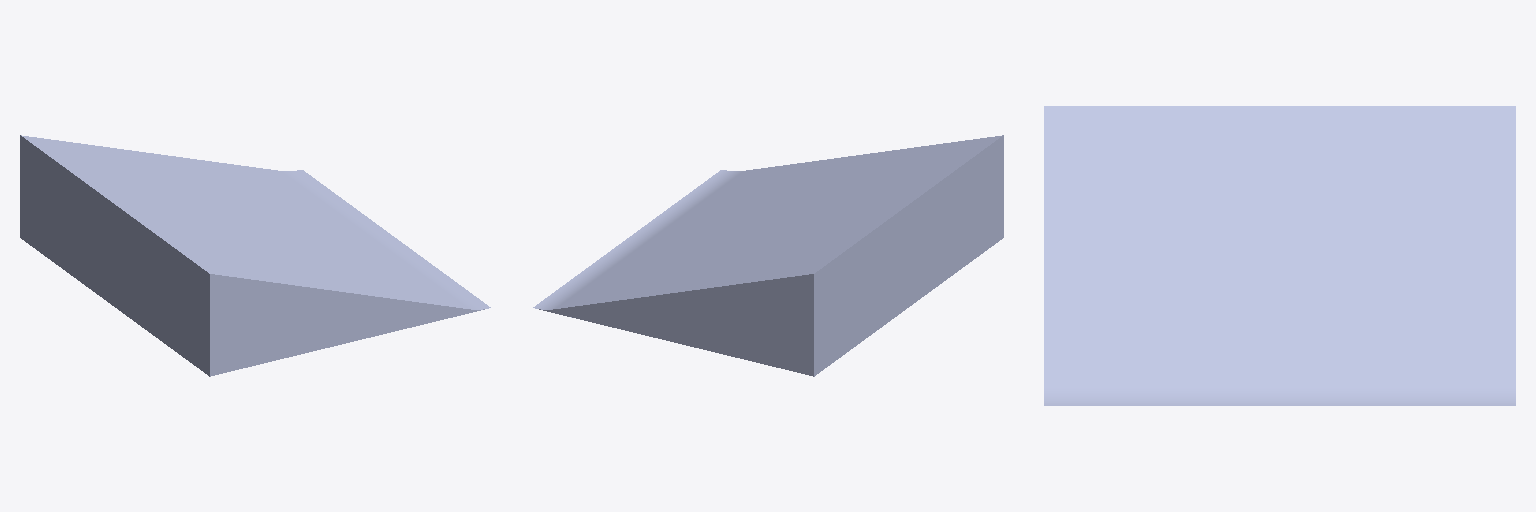
The robot description file, URDF, robot "Part1":
<robot
  name="Part1">
  <link
    name="Part1">
    <inertial>
      <origin
        xyz="-22.493 3.44954164100349E-16 9.9943"
        rpy="0 0 0" />
      <mass
        value="123710000" />
      <inertia
        ixx="109278861010.411"
        ixy="2.78637320188217E-05"
        ixz="-8530710339.46658"
        iyy="53069951419.3473"
        iyz="1.19977934148028E-05"
        izz="149971500568.639" />
    </inertial>
    <visual>
      <origin
        xyz="0 0 0"
        rpy="1.5707963267949 0 0" />
      <geometry>
        <mesh
          filename="package://Part1/meshes/Part1.STL" />
      </geometry>
      <material
        name="">
        <color
          rgba="0.79216 0.81961 0.93333 1" />
      </material>
    </visual>
    <collision>
      <origin
        xyz="0 0 0"
        rpy="1.5707963267949 0 0" />
      <geometry>
        <mesh
          filename="package://Part1/meshes/Part1.STL" />
      </geometry>
    </collision>
  </link>
</robot>

--- Facts derived from the render (not from the file) ---
Views: 3 orthographic renders of the robot side by side, from view 1: azimuth 30°, elevation 25°; view 2: azimuth 150°, elevation 25°; view 3: azimuth 270°, elevation 25°.
Robot: Part1 — 1 links, 0 joints (none); root link Part1; default pose: all joints at 0.
Visible links, largest first — view 1: Part1; view 2: Part1; view 3: Part1.
Link boxes in pixels (x1,y1,x2,y2): Part1: (20,135,490,376); Part1: (533,135,1003,376); Part1: (1044,106,1515,405).
Bounding box of the posed robot: 30083 × 35000 × 10500 m (x, y, z).
1 mesh visuals loaded from 1 distinct referenced files (1 binary STL).
